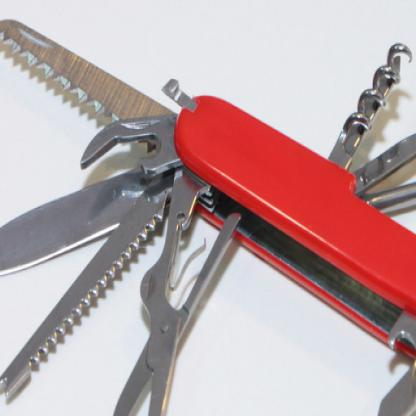knife: (0, 13, 415, 415)
